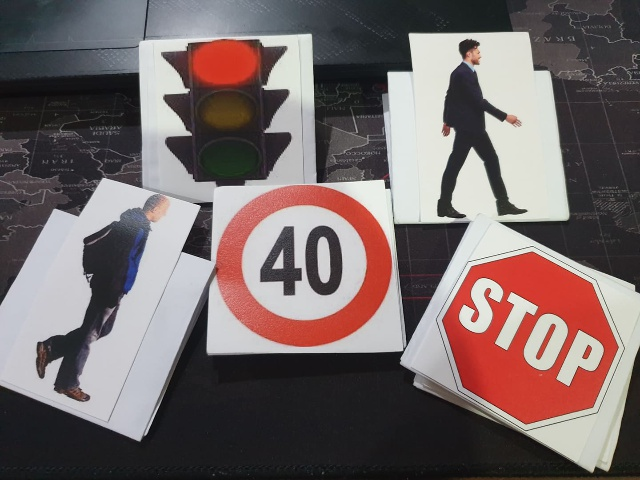Limit 40: (215, 190, 392, 344)
Person: (29, 193, 183, 403), (415, 33, 539, 219)
Red: (151, 43, 294, 182)
Stop: (441, 242, 619, 448)
